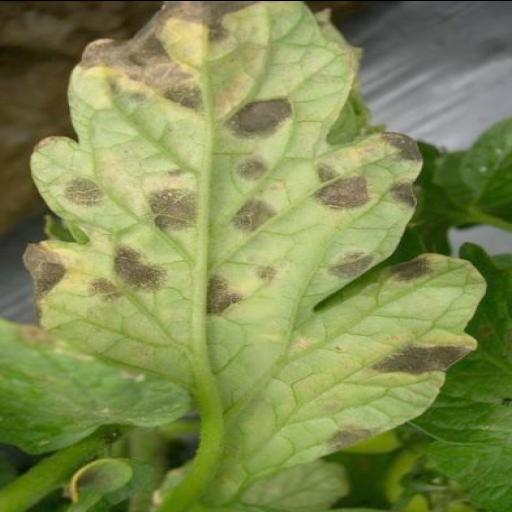disease_tomato: (16, 0, 488, 512)
